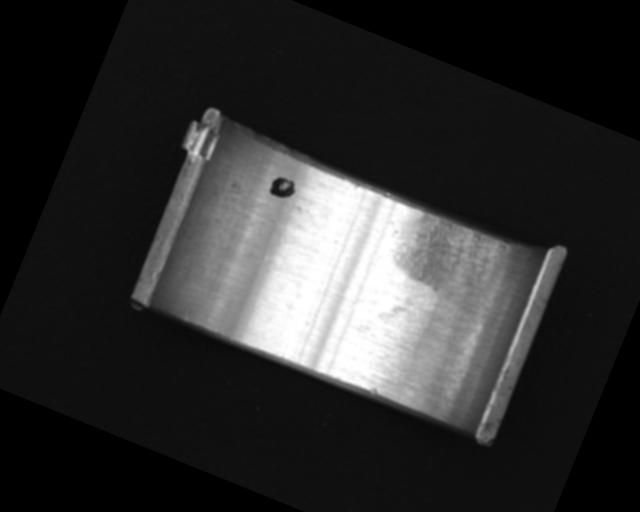blot: (266, 172, 299, 202)
bruise: (368, 384, 381, 398)
scratch: (376, 200, 516, 314)
